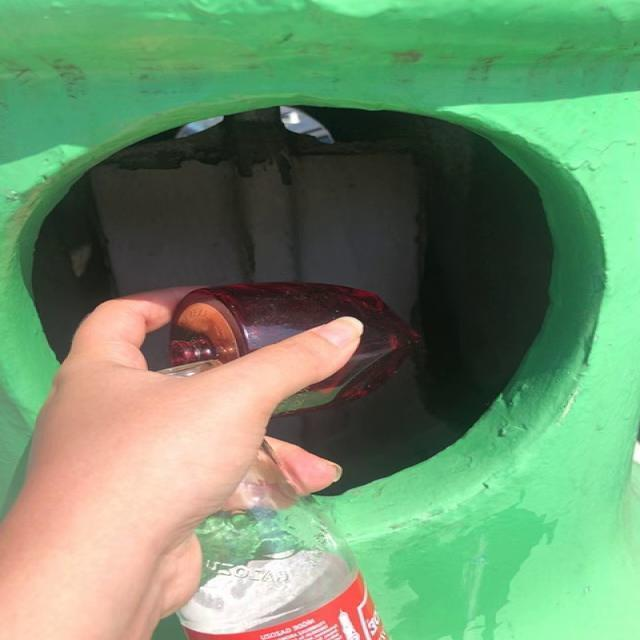Glass: (179, 444, 387, 640), (160, 283, 420, 414)
